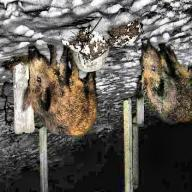boar: (9, 35, 108, 137), (124, 44, 192, 130)
